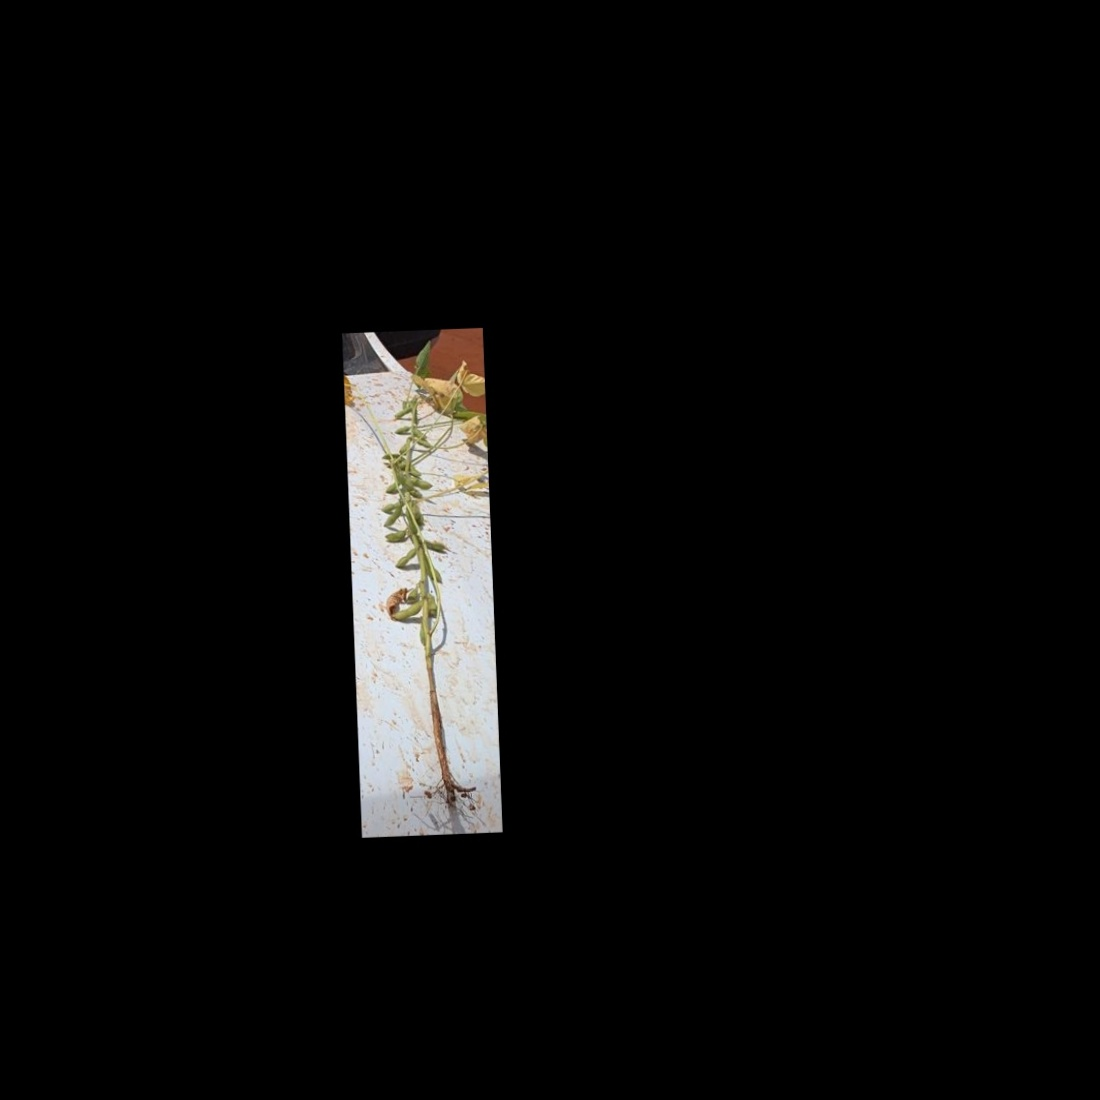pod: (386, 599, 430, 622), (393, 545, 419, 569), (380, 527, 411, 545), (409, 476, 435, 492), (378, 500, 405, 514), (391, 423, 413, 435)
soy: (362, 377, 488, 802)
